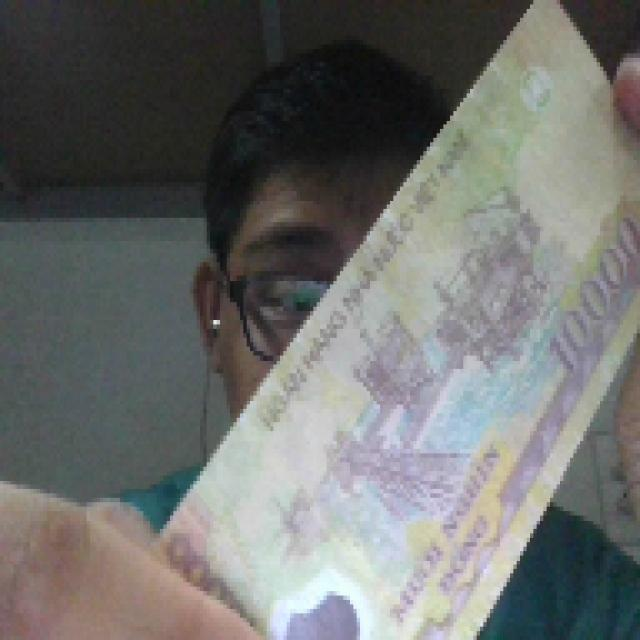10 000 VND: (143, 0, 637, 636)
